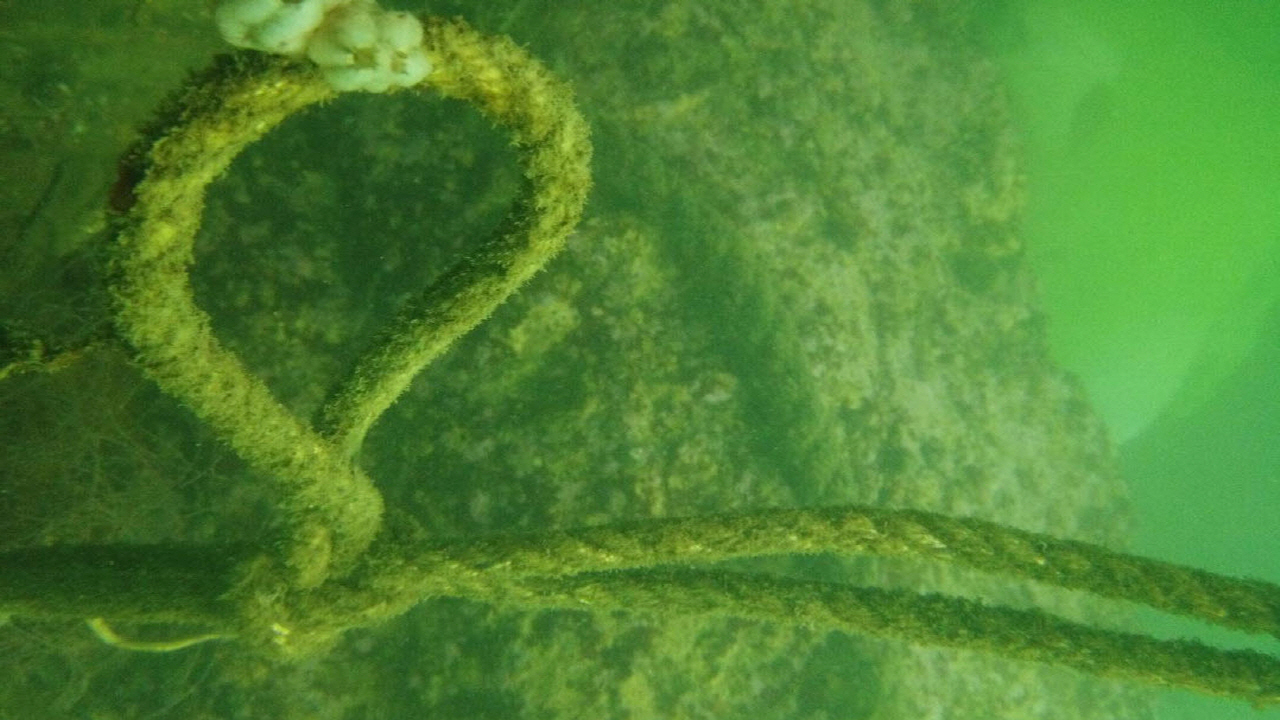bundle of ropes: (103, 9, 1280, 713)
rope: (597, 125, 875, 600)
